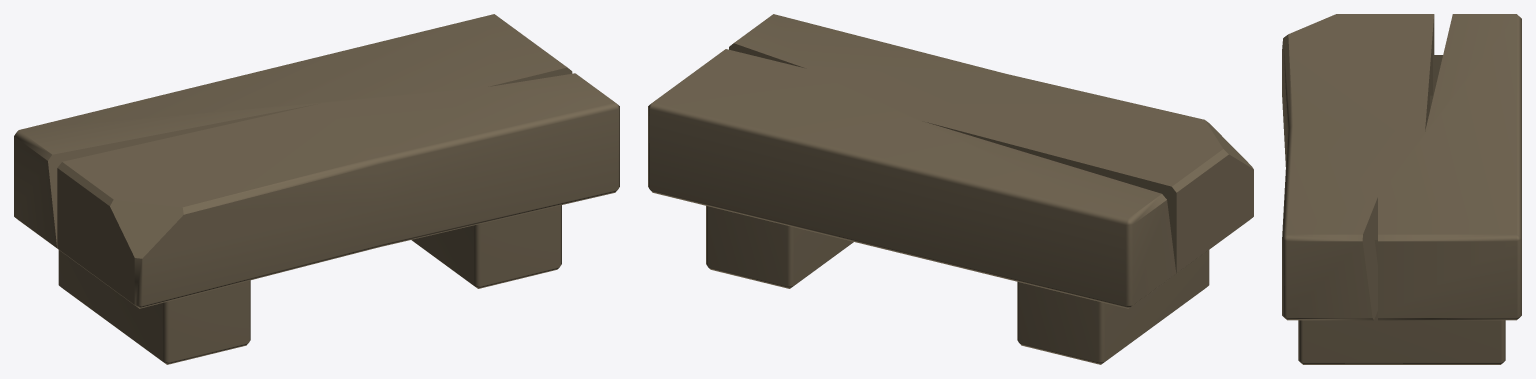
Rendered from SM_Bench.fbx.
The picture shows the model from 3 angles, left to right: view 1: azimuth 30°, elevation 25°; view 2: azimuth 150°, elevation 25°; view 3: azimuth 270°, elevation 25°; orthographic projection. The views are drawn at different scales.
Visible parts, largest first — view 1: polySurface9; view 2: polySurface9; view 3: polySurface9.
Part boxes in pixels (box(x1,y1,x2,y2)): polySurface9: box(14, 14, 619, 364); polySurface9: box(648, 14, 1253, 364); polySurface9: box(1282, 14, 1521, 364).
Size of the model in its own units: 100 by 31.79 by 45.08.
